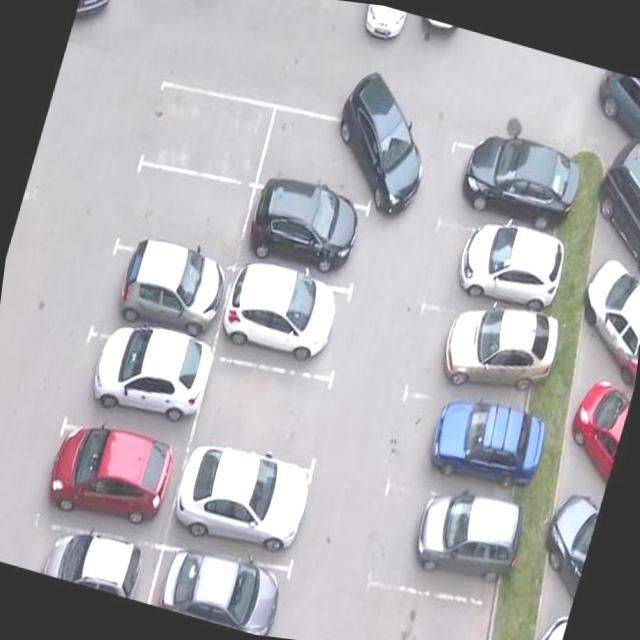car: (162, 432, 324, 562), (322, 62, 440, 220), (40, 415, 184, 537), (215, 250, 345, 370), (87, 315, 219, 429), (238, 168, 369, 282), (403, 481, 533, 594), (438, 294, 568, 406), (454, 126, 590, 232), (153, 540, 295, 638), (113, 227, 227, 346), (450, 212, 574, 318), (421, 395, 550, 489), (34, 518, 151, 602), (570, 255, 640, 389), (560, 369, 634, 489), (587, 132, 640, 277), (540, 482, 606, 570), (587, 64, 640, 141), (356, 2, 409, 44), (527, 605, 572, 640), (75, 0, 119, 23)
